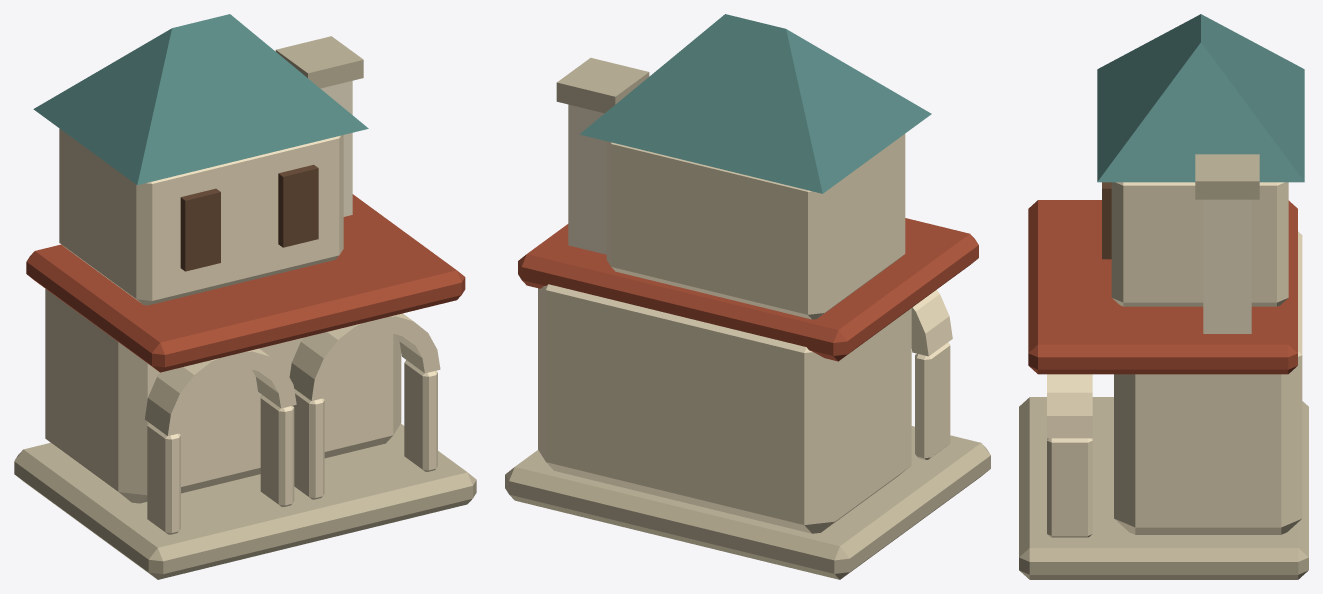
File: ns-house-4a.glb
3 views of the same model, side by side, from view 1: azimuth 30°, elevation 25°; view 2: azimuth 150°, elevation 25°; view 3: azimuth 270°, elevation 25° (orthographic). The views are drawn at different scales.
Parts seen in each view (by area): view 1: Cube; view 2: Cube; view 3: Cube.
Boxes of the visible parts, bbox=[...] form: Cube: bbox=[14, 14, 476, 579]; Cube: bbox=[505, 14, 990, 579]; Cube: bbox=[1019, 14, 1308, 579].
Size of the model in its own units: 0.47 by 0.636 by 0.36.
